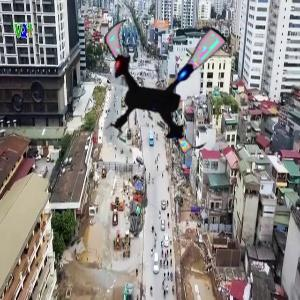drone: (87, 3, 244, 160)
